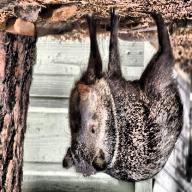boar: (62, 6, 185, 180)
